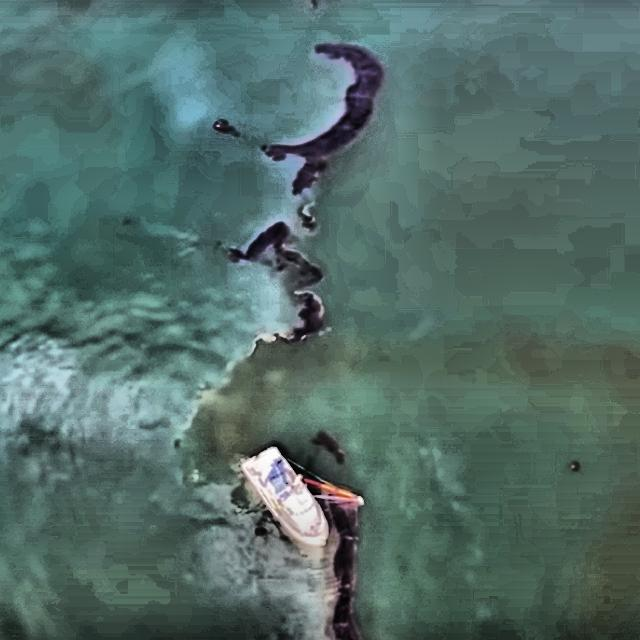truecolor: (262, 43, 384, 194), (288, 459, 364, 640), (228, 221, 325, 350), (314, 434, 345, 464), (299, 202, 318, 230), (213, 119, 240, 136)
